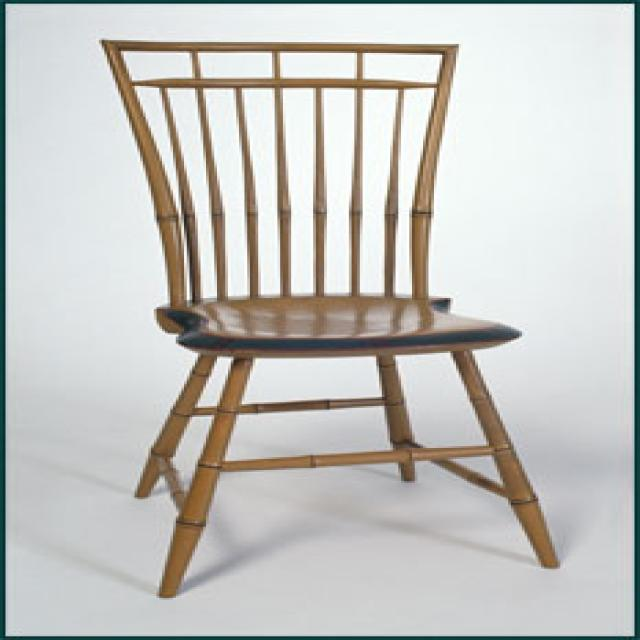chair: (98, 36, 561, 600)
